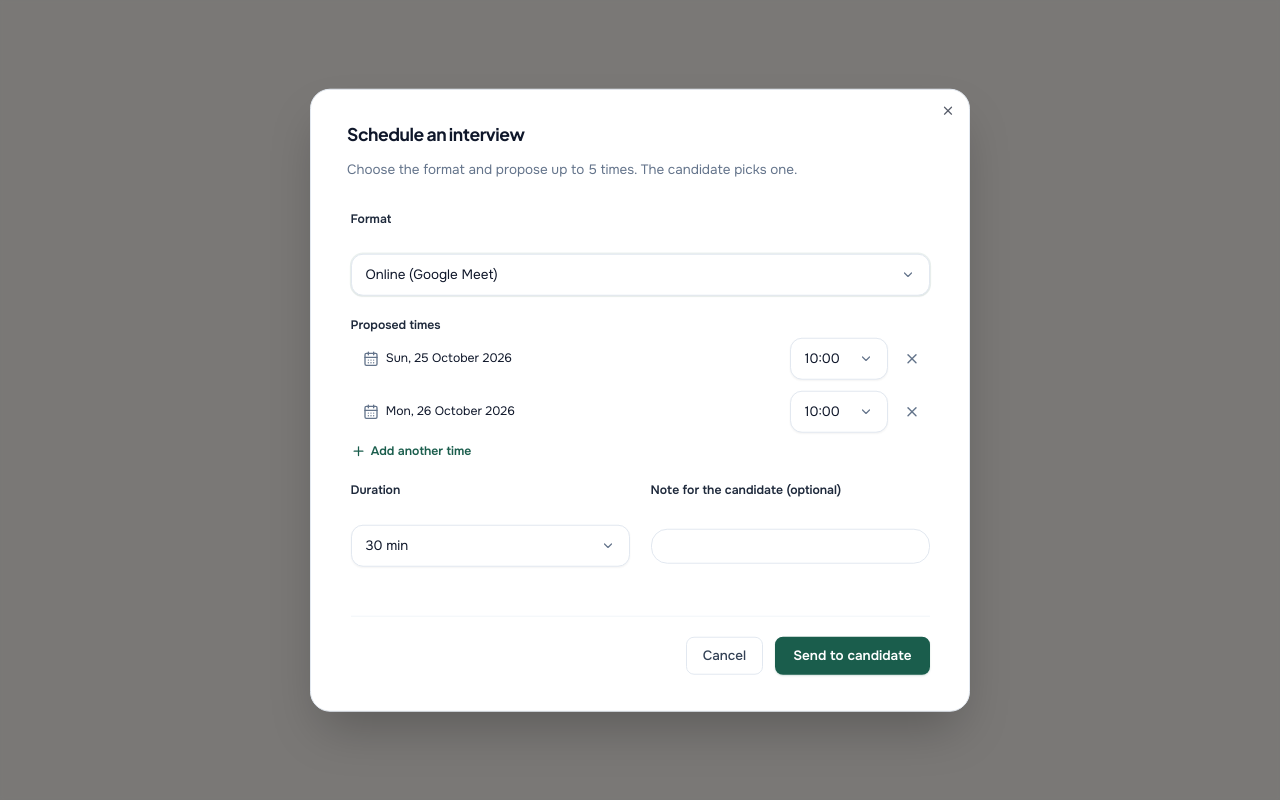
Test: schedule interview dialog › sends an online interview with the proposed times and shows the candidate link
Click the button "Send to candidate".
click(852, 656)  # box [775,637,930,675]
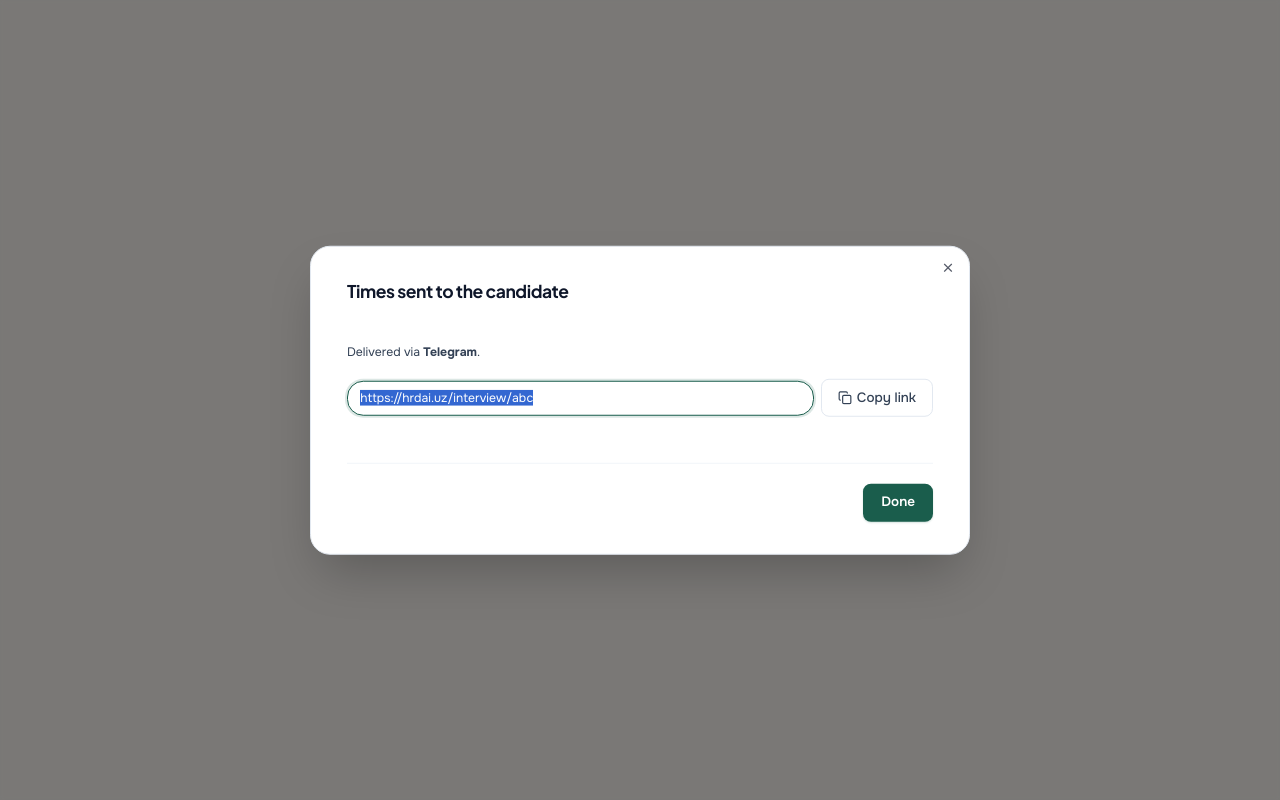
Result: the field showing "https://hrdai.uz/interview/abc" is shown at [347,380,814,415]
